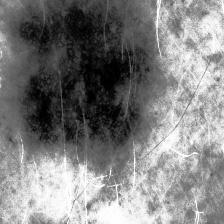Benign Marking or Mole: (17, 0, 162, 168)
